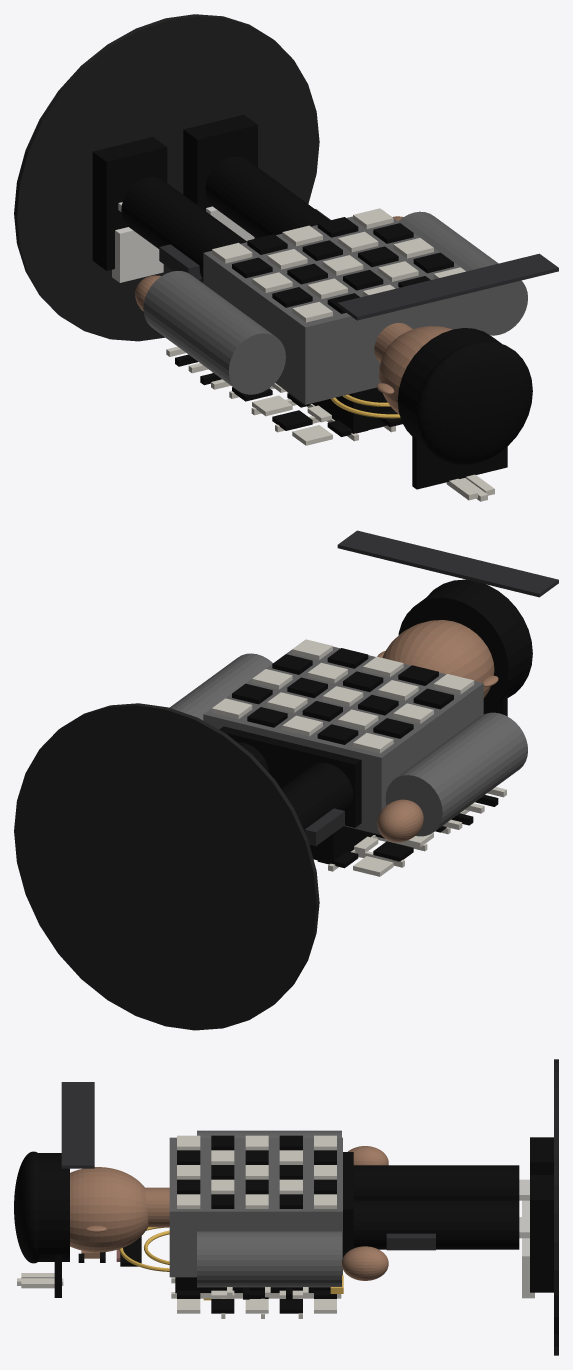
The model's file is player.glb.
3 views of the same model, one above another, from view 1: azimuth 30°, elevation 25°; view 2: azimuth 150°, elevation 25°; view 3: azimuth 270°, elevation 25° (orthographic). The views are drawn at different scales.
Visible parts, largest first — view 1: simple_round_display_base, oversized_plaid_jacket_body_base_gray, rounded_cap_top, left_plaid_sleeve, left_black_cargo_pant_leg, right_black_cargo_pant_leg, left_black_jordan_high_top_base, back_label_plate_reference_outfit_black_white_plaid, right_plaid_sleeve, right_black_jordan_high_top_base, black_trucker_cap_crown, curved_cap_brim (+5 smaller); view 2: simple_round_display_base, oversized_plaid_jacket_body_base_gray, left_plaid_sleeve, black_trucker_cap_crown, back_label_plate_reference_outfit_black_white_plaid, head_face, black_waistband, left_black_cargo_pant_leg, right_plaid_sleeve, left_hand, front_open_black_shirt_visible, rounded_cap_top (+1 smaller); view 3: oversized_plaid_jacket_body_base_gray, right_plaid_sleeve, right_black_cargo_pant_leg, left_black_cargo_pant_leg, head_face, black_trucker_cap_crown, back_label_plate_reference_outfit_black_white_plaid, right_black_jordan_high_top_base, rounded_cap_top, simple_round_display_base, right_hand, black_waistband (+16 smaller).
Part boxes in pixels (x1=…): simple_round_display_base: x1=14, y1=14, x2=319, y2=341; oversized_plaid_jacket_body_base_gray: x1=203, y1=216, x2=483, y2=404; rounded_cap_top: x1=416, y1=341, x2=532, y2=464; left_plaid_sleeve: x1=143, y1=271, x2=285, y2=394; left_black_cargo_pant_leg: x1=121, y1=177, x2=246, y2=281; right_black_cargo_pant_leg: x1=205, y1=156, x2=329, y2=238; left_black_jordan_high_top_base: x1=92, y1=137, x2=167, y2=270; back_label_plate_reference_outfit_black_white_plaid: x1=337, y1=253, x2=558, y2=320; right_plaid_sleeve: x1=398, y1=211, x2=527, y2=335; right_black_jordan_high_top_base: x1=183, y1=114, x2=257, y2=210; black_trucker_cap_crown: x1=397, y1=328, x2=501, y2=446; curved_cap_brim: x1=412, y1=435, x2=507, y2=489; simple_round_display_base: x1=14, y1=703, x2=319, y2=1030; oversized_plaid_jacket_body_base_gray: x1=203, y1=646, x2=483, y2=835; left_plaid_sleeve: x1=385, y1=712, x2=527, y2=836; black_trucker_cap_crown: x1=398, y1=584, x2=527, y2=712; back_label_plate_reference_outfit_black_white_plaid: x1=337, y1=530, x2=558, y2=597; head_face: x1=382, y1=620, x2=494, y2=698; black_waistband: x1=219, y1=726, x2=361, y2=827; left_black_cargo_pant_leg: x1=281, y1=762, x2=353, y2=831; right_plaid_sleeve: x1=169, y1=653, x2=272, y2=720; left_hand: x1=377, y1=799, x2=423, y2=842; front_open_black_shirt_visible: x1=309, y1=826, x2=373, y2=863; rounded_cap_top: x1=427, y1=579, x2=532, y2=697; oversized_plaid_jacket_body_base_gray: x1=169, y1=1137, x2=342, y2=1277; right_plaid_sleeve: x1=197, y1=1231, x2=341, y2=1287; right_black_cargo_pant_leg: x1=353, y1=1200, x2=519, y2=1249; left_black_cargo_pant_leg: x1=353, y1=1165, x2=519, y2=1200; head_face: x1=70, y1=1167, x2=148, y2=1252; black_trucker_cap_crown: x1=38, y1=1153, x2=69, y2=1261; back_label_plate_reference_outfit_black_white_plaid: x1=61, y1=1082, x2=94, y2=1168; right_black_jordan_high_top_base: x1=530, y1=1175, x2=553, y2=1292; rounded_cap_top: x1=14, y1=1151, x2=38, y2=1263; simple_round_display_base: x1=554, y1=1059, x2=558, y2=1355; right_hand: x1=342, y1=1246, x2=388, y2=1280; black_waistband: x1=343, y1=1152, x2=353, y2=1257.
Size of the model in its own units: 1.8 by 1.8 by 3.3.
